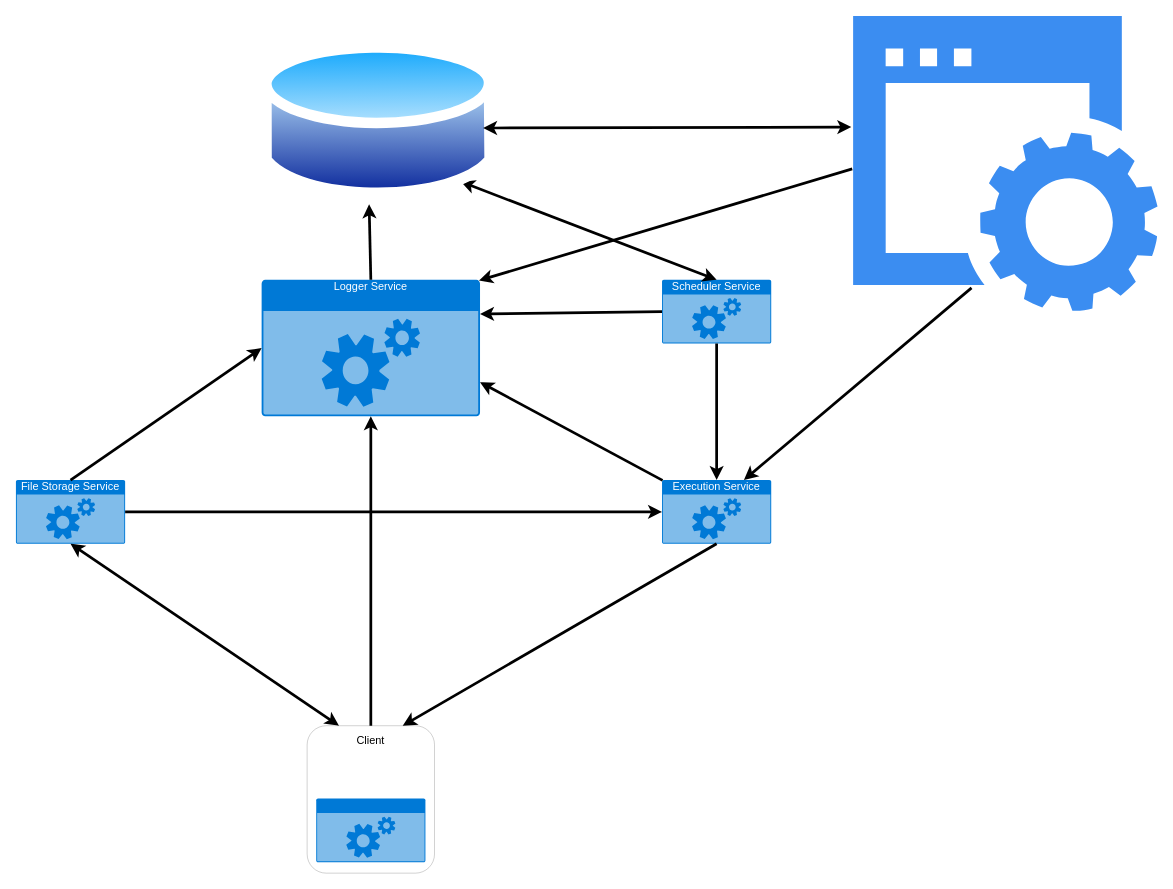
The diagram is 1173 pixels wide and 889 high, and some of its shapes have lost their labels. The centre of each missing label's shape, as x and y in pixels:
CAST Client: the point at 370,830
Database: the point at 378,120
Web Service: the point at 1005,163
